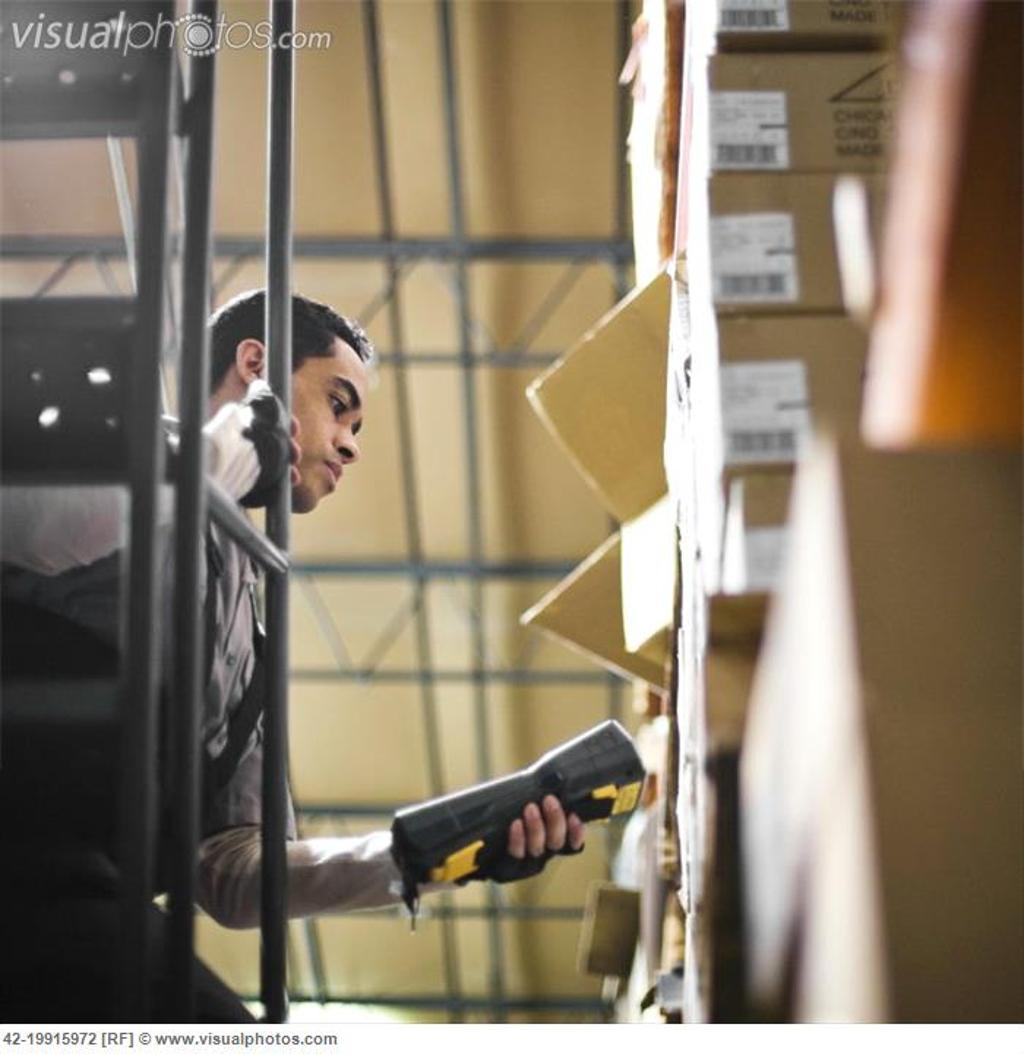face: (255, 337, 364, 499)
